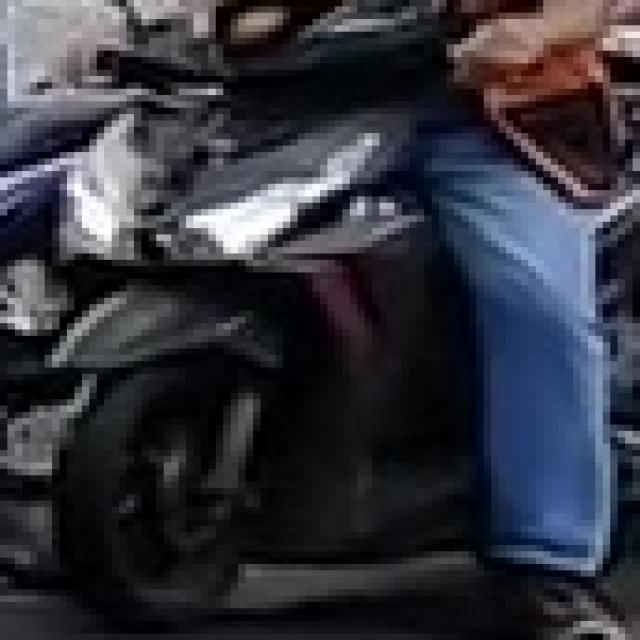tyre: (44, 355, 260, 621)
